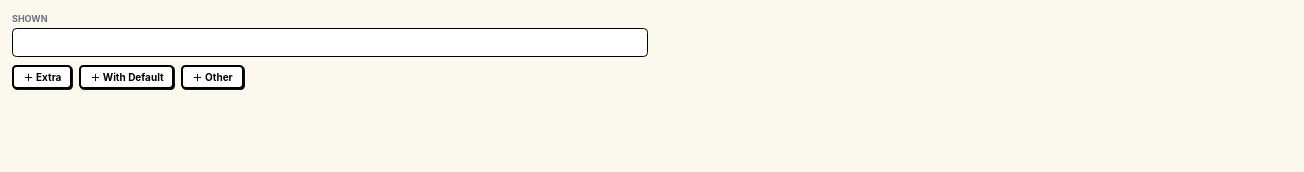
Test case: ZodSchemaForm progressive disclosure › a chip reveals its field without writing an empty value, and remove clears it
This screenshot has width=1304, height=172.
Click the button with test id "f-extra-add": (42, 77) x1=12 y1=66 x2=72 y2=89
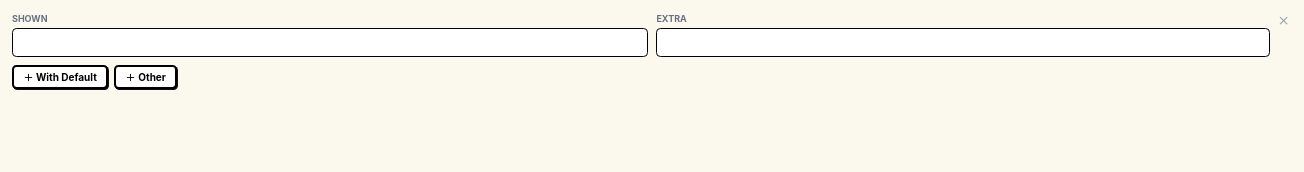
Result: the field with test id "f-extra" is shown
In the field with test id "f-extra": (963, 42) x1=656 y1=28 x2=1270 y2=57, type "hello"
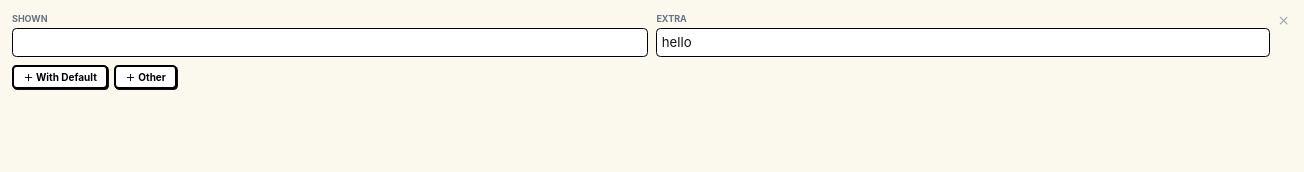
Click the button with test id "f-extra-remove": (1283, 21) x1=1274 y1=12 x2=1292 y2=30
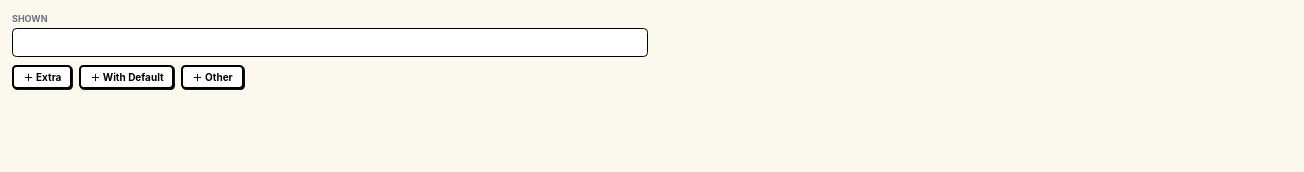
Expected: the button with test id "f-extra-add" is shown, x1=12 y1=66 x2=72 y2=89
Result: the field with test id "f-extra" is gone
